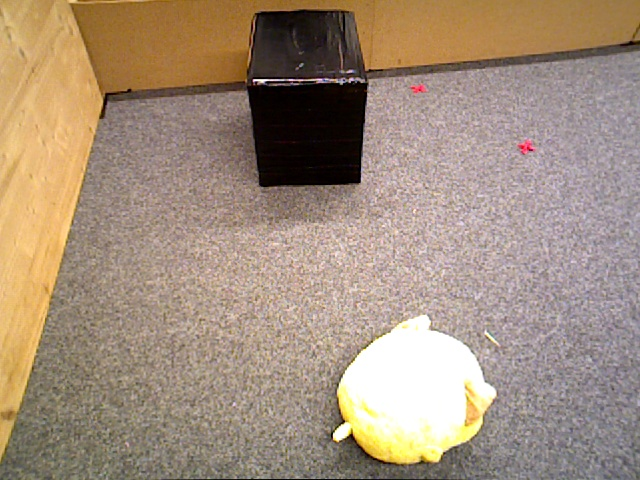grasp: (337, 324, 488, 466)
push: (247, 9, 371, 191)
